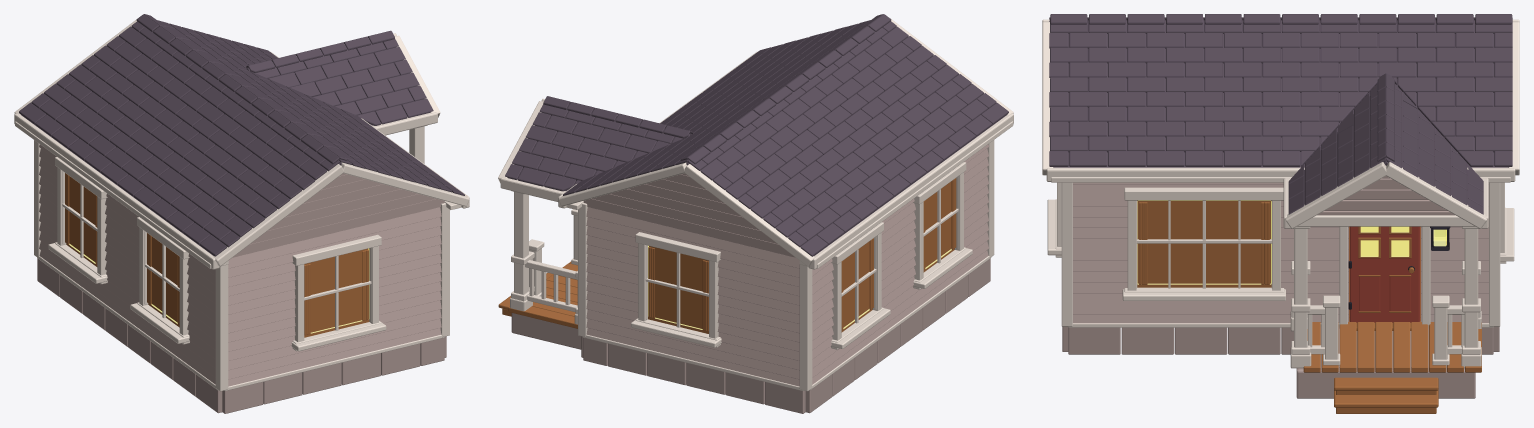
3 renders of one model, left to right at view 1: azimuth 30°, elevation 25°; view 2: azimuth 150°, elevation 25°; view 3: azimuth 270°, elevation 25°, orthographic. The views are drawn at different scales.
Visible parts, largest first — view 1: roof_pal_asphalt, body_pal_sidewalk, roof_pal_picketWhite, body_pal_picketWhite, window_left_pal_woodWarm, window_left_pal_picketWhite, window_rearR_pal_picketWhite, window_rearL_pal_picketWhite, window_rearL_pal_woodWarm, window_rearR_pal_woodWarm; view 2: roof_pal_asphalt, body_pal_sidewalk, body_pal_picketWhite, roof_pal_picketWhite, window_right_pal_picketWhite, window_right_pal_woodWarm, window_rearL_pal_picketWhite, window_rearR_pal_picketWhite, window_rearR_pal_woodWarm, window_rearL_pal_woodWarm, body_pal_woodWarm; view 3: roof_pal_asphalt, body_pal_sidewalk, body_pal_picketWhite, roof_pal_picketWhite, window_front_pal_woodWarm, body_pal_woodWarm, window_front_pal_picketWhite, door_front_pal_brick, roof_pal_sidewalk, door_front_pal_woodWarm, window_right_pal_picketWhite, window_left_pal_picketWhite (+2 smaller).
Part boxes in pixels (x1,y1,x2,y2): roof_pal_asphalt: (19, 14, 464, 256); body_pal_sidewalk: (37, 144, 446, 413); roof_pal_picketWhite: (14, 19, 469, 269); body_pal_picketWhite: (34, 125, 449, 391); window_left_pal_woodWarm: (304, 248, 369, 337); window_left_pal_picketWhite: (291, 234, 386, 351); window_rearR_pal_picketWhite: (130, 217, 189, 344); window_rearL_pal_picketWhite: (48, 157, 107, 284); window_rearL_pal_woodWarm: (65, 173, 97, 266); window_rearR_pal_woodWarm: (147, 233, 179, 327); roof_pal_asphalt: (505, 14, 1008, 256); body_pal_sidewalk: (511, 144, 990, 413); body_pal_picketWhite: (510, 140, 994, 391); roof_pal_picketWhite: (498, 18, 1013, 269); window_right_pal_picketWhite: (631, 232, 721, 347); window_right_pal_woodWarm: (648, 245, 708, 333); window_rearL_pal_picketWhite: (831, 222, 890, 349); window_rearR_pal_picketWhite: (913, 162, 972, 289); window_rearR_pal_woodWarm: (923, 178, 956, 272); window_rearL_pal_woodWarm: (841, 238, 873, 332); body_pal_woodWarm: (498, 261, 577, 328); roof_pal_asphalt: (1049, 14, 1512, 214); body_pal_sidewalk: (1062, 182, 1499, 398); body_pal_picketWhite: (1061, 182, 1500, 368); roof_pal_picketWhite: (1042, 19, 1519, 228); window_front_pal_woodWarm: (1137, 200, 1271, 287); body_pal_woodWarm: (1303, 317, 1481, 413); window_front_pal_picketWhite: (1122, 187, 1285, 300); door_front_pal_brick: (1349, 226, 1420, 322); roof_pal_sidewalk: (1317, 176, 1454, 215); door_front_pal_woodWarm: (1358, 226, 1414, 312); window_right_pal_picketWhite: (1500, 182, 1514, 263); window_left_pal_picketWhite: (1047, 182, 1061, 257).
Bounding box in the file's own units: 7.14 × 4.55 × 7.17.
